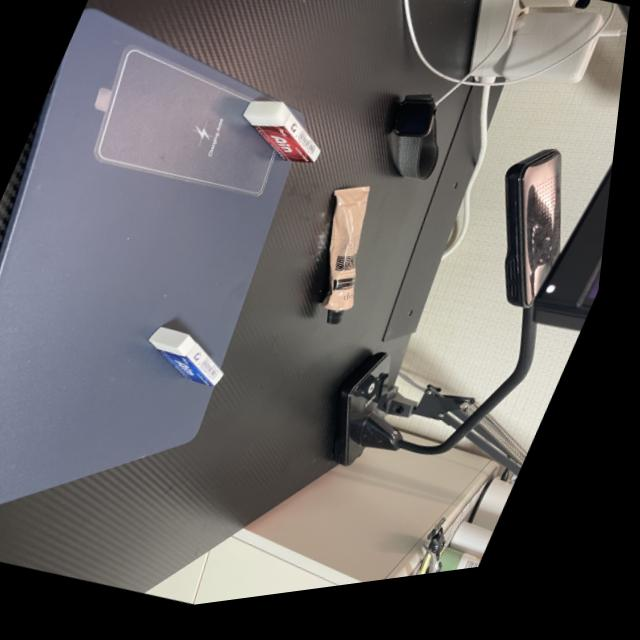blue: (131, 312, 256, 413)
red: (220, 85, 355, 197)
